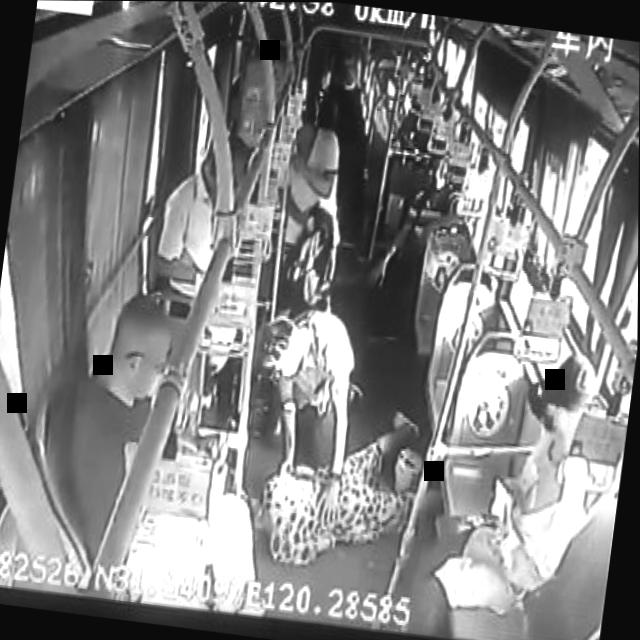Fall-Detected: (240, 389, 444, 589)
